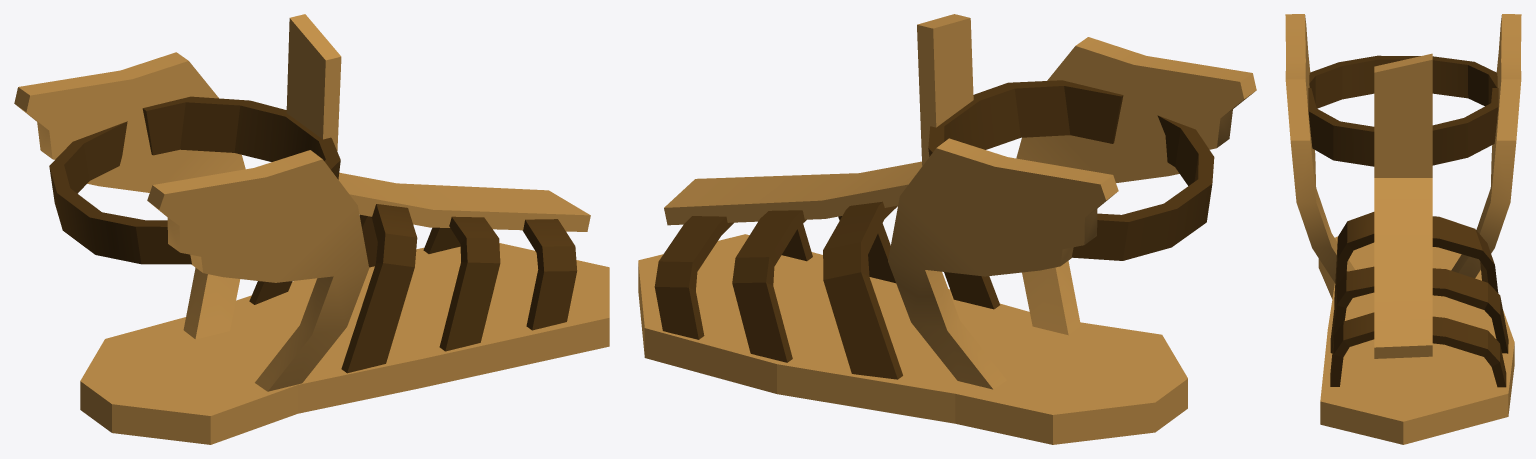
The model's file is Sandals.fbx.
3 renders of one model, left to right at view 1: azimuth 30°, elevation 25°; view 2: azimuth 150°, elevation 25°; view 3: azimuth 270°, elevation 25°, orthographic. The views are drawn at different scales.
Visible parts, largest first — view 1: polySurface3; view 2: polySurface3; view 3: polySurface3.
Boxes of the visible parts, <box> form: polySurface3: <box>14,14,609,444</box>; polySurface3: <box>638,14,1256,444</box>; polySurface3: <box>1285,14,1521,444</box>.
Size of the model in its own units: 15.57 by 9.4 by 7.37.
1 material, 1 textured.
